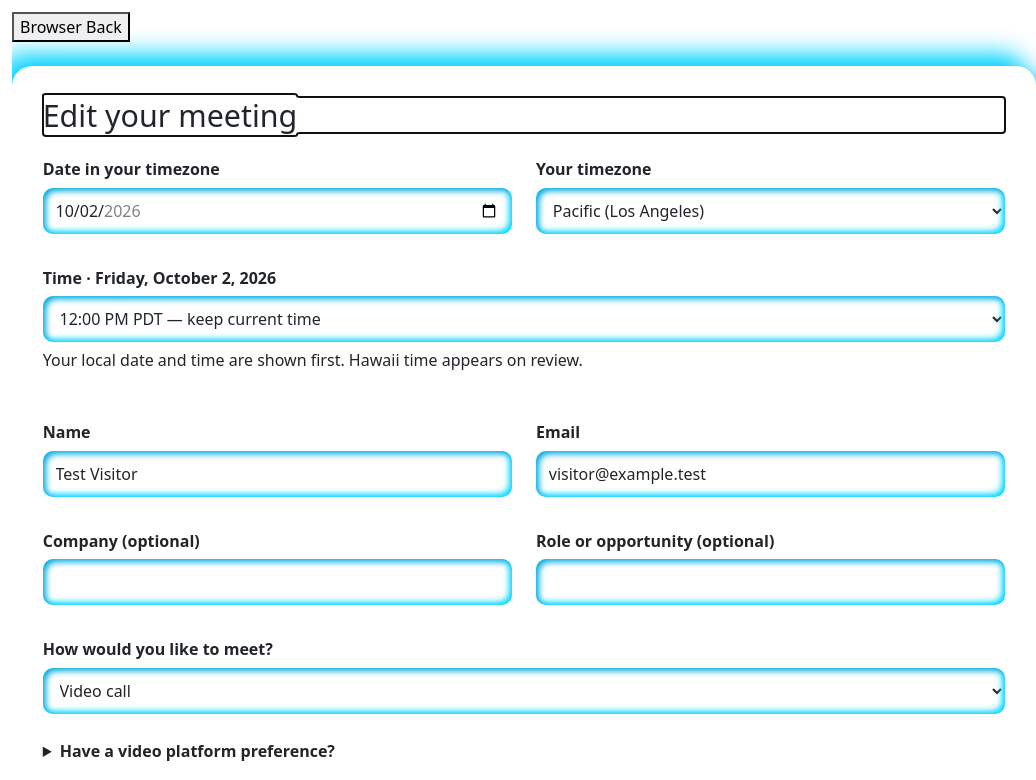
it: changing timezone preserves the instant while updating its local date
Expected: the dropdown labelled "Time · Friday, October 2, 2026" is enabled, [43,296,1005,342]
Select "Asia / Tokyo" in the dropdown labelled "Your timezone" at (771, 211), box [536,188,1005,234]
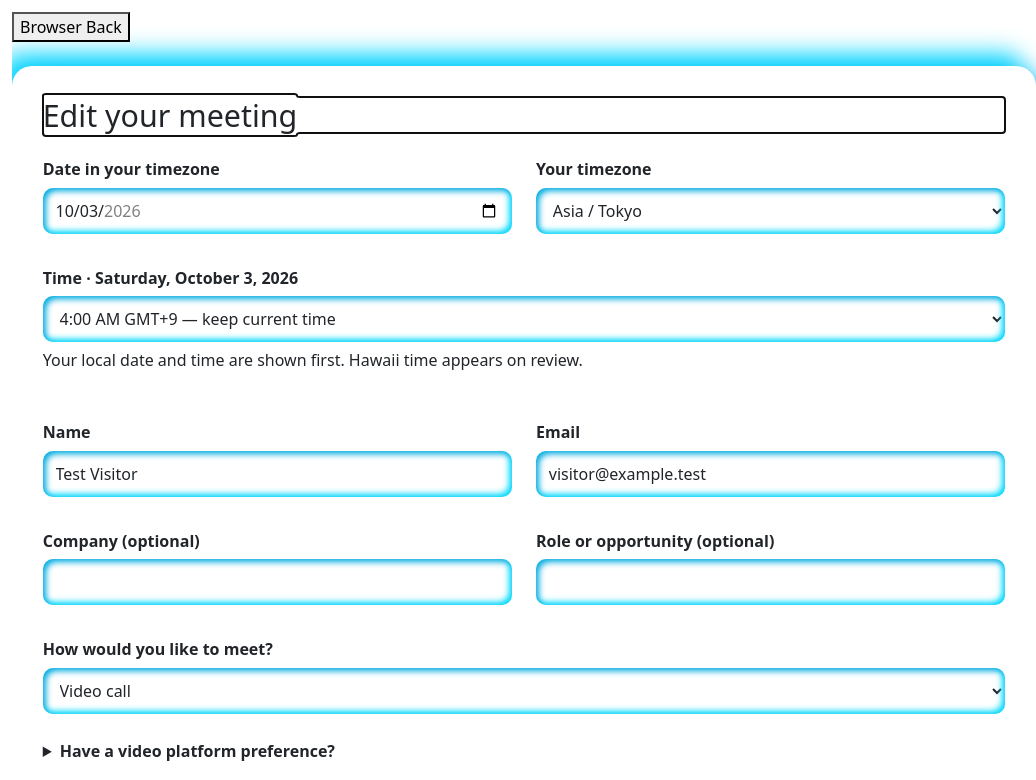
Expected: the dropdown labelled "Time · Saturday, October 3, 2026" is enabled, [43,296,1005,342]
Expected: the date field labelled "Date in your timezone" holds "2026-10-03", [43,188,512,234]
